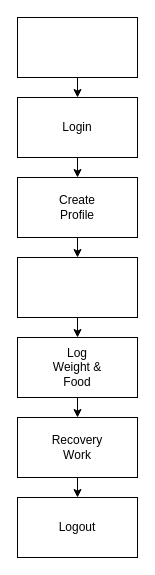
Image size: 155x575. Some labels were removed from this diagram. Each missing label, with the box of its shape:
Create Workout: (16, 256, 138, 318)
Register / Sign Up: (16, 16, 138, 78)
